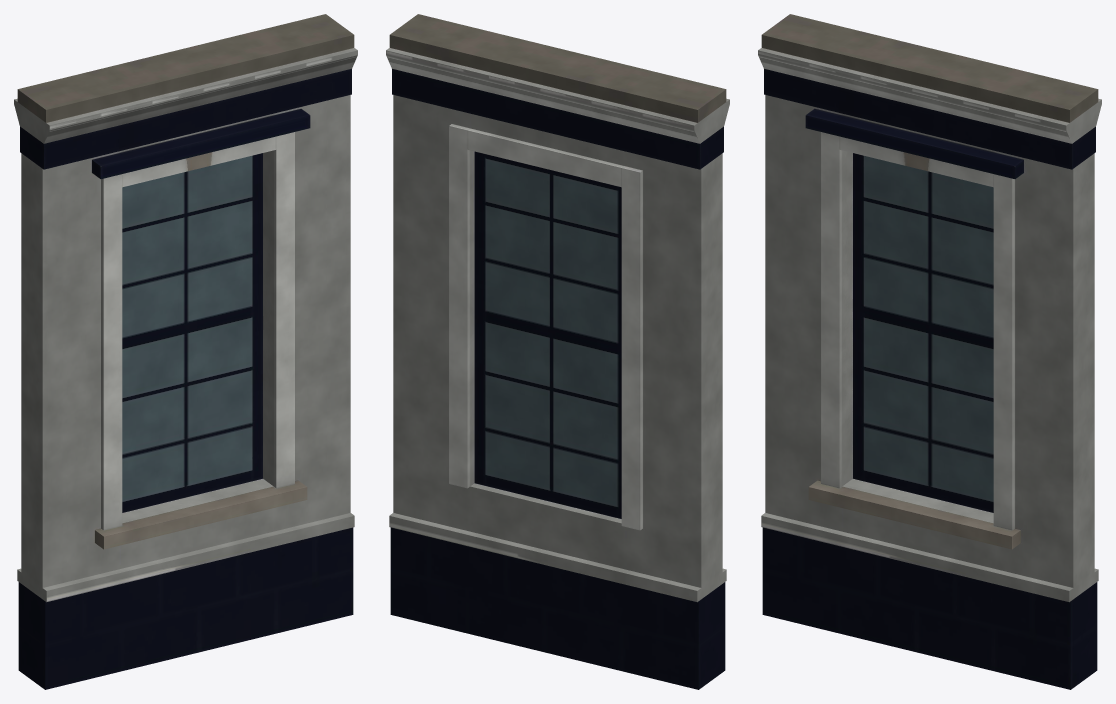
Rendered from charter_window.glb.
The picture shows the model from 3 angles, left to right: view 1: azimuth 30°, elevation 25°; view 2: azimuth 150°, elevation 25°; view 3: azimuth 330°, elevation 25°; orthographic projection.
Parts seen in each view (by area): view 1: charter_window; view 2: charter_window; view 3: charter_window.
Part boxes in pixels (<box>): charter_window: <box>14,14,357,689</box>; charter_window: <box>386,14,729,689</box>; charter_window: <box>758,14,1101,689</box>.
Bounding box in the file's own units: 2 × 3.6 × 0.42.
Materials: 1 (1 with a texture image).
